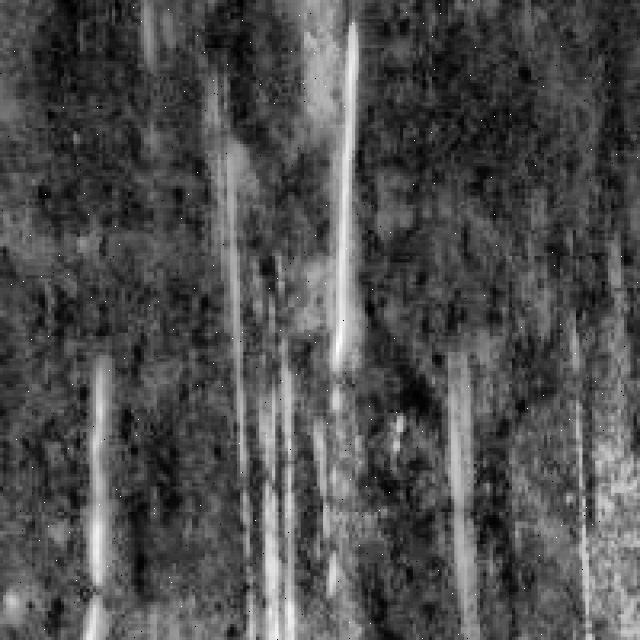Inclusion: (230, 237, 300, 630), (327, 9, 378, 372), (74, 352, 132, 634), (444, 362, 490, 627)
